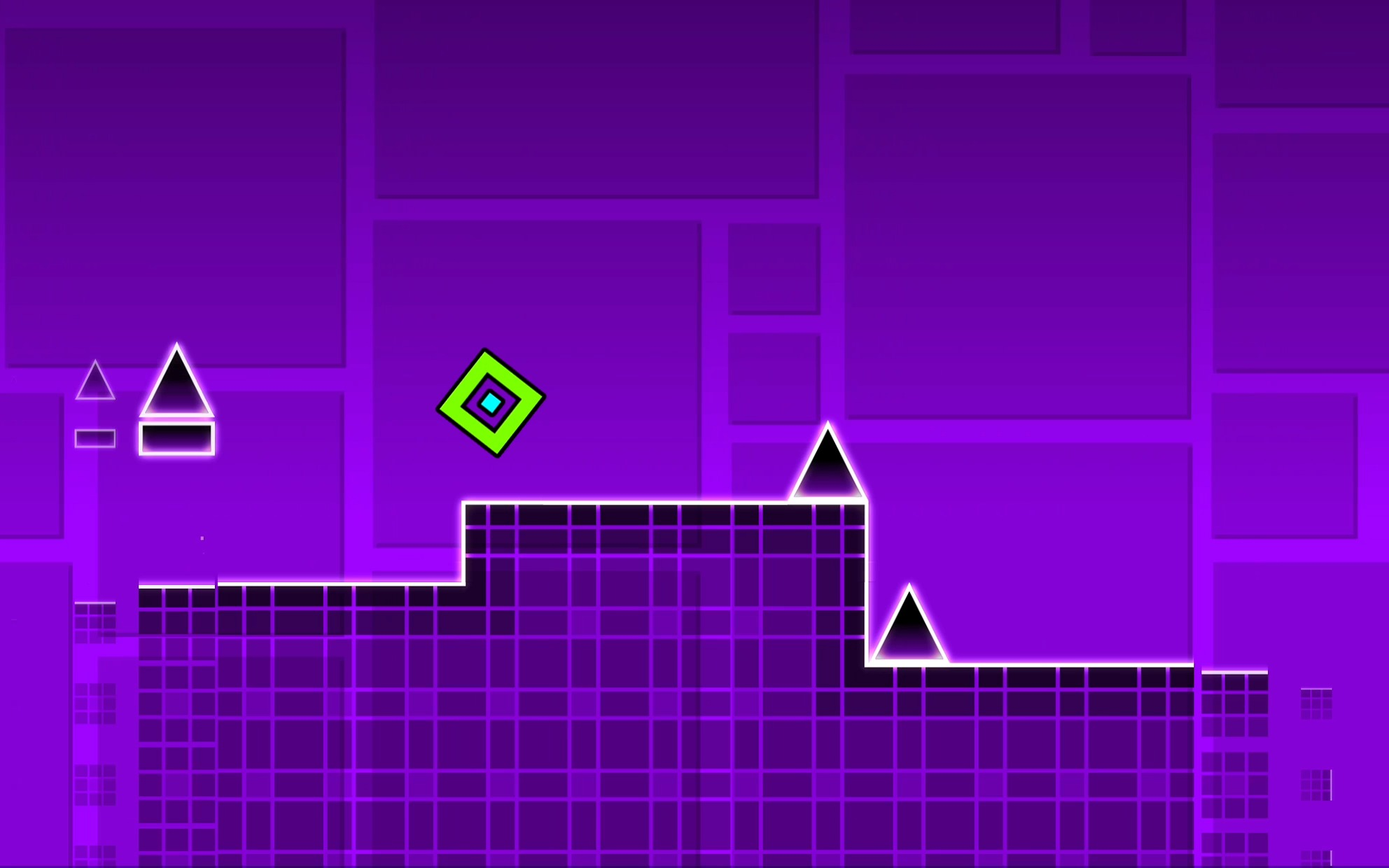Block2: (465, 504, 867, 868), (74, 583, 466, 868), (865, 664, 1336, 868)
Block3: (139, 421, 215, 455)
Player: (437, 349, 545, 456)
Spike: (788, 421, 868, 502), (868, 585, 948, 664), (141, 342, 212, 416), (75, 361, 115, 398)
